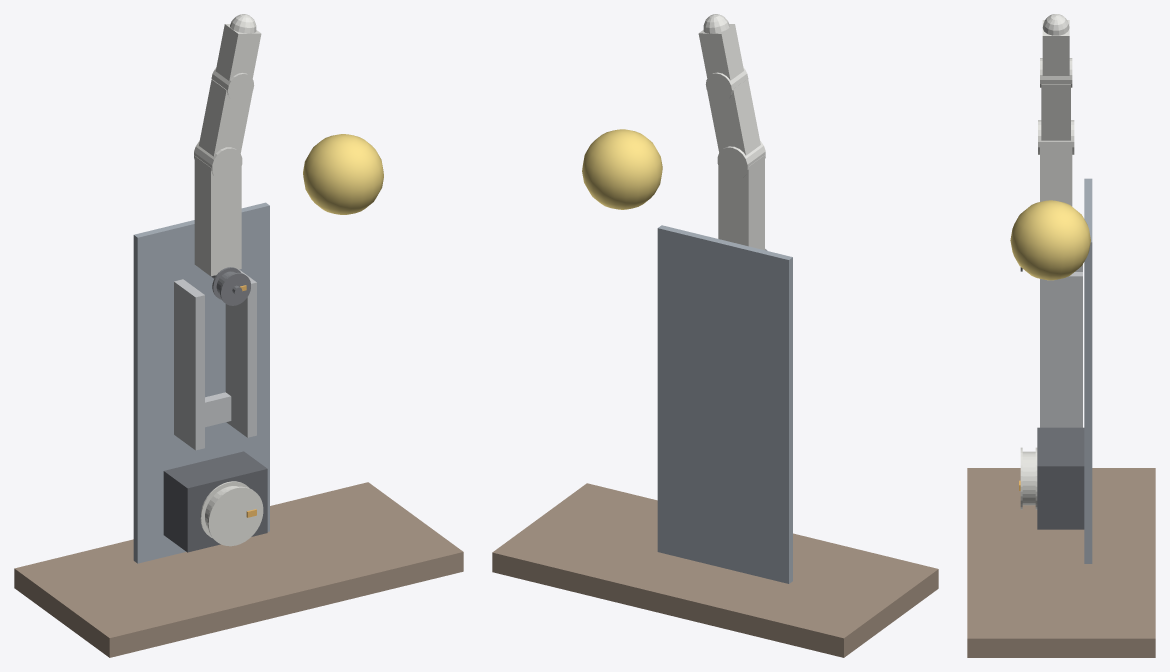
File: finger.glb
3 views of the same model, side by side, from view 1: azimuth 30°, elevation 25°; view 2: azimuth 150°, elevation 25°; view 3: azimuth 270°, elevation 25° (orthographic).
Parts seen in each view (by area): view 1: FG_desk, FG_plate, FG_frame, FG_p1, FG_servo, FG_p2, FG_ball, FG_spool, FG_pulley; view 2: FG_plate, FG_desk, FG_p2, FG_ball, FG_p1; view 3: FG_desk, FG_frame, FG_ball, FG_servo, FG_p2, FG_plate, FG_p1, FG_spool.
Boxes of the visible parts, <box> form: FG_desk: <box>14,482,463,657</box>; FG_plate: <box>133,202,269,563</box>; FG_frame: <box>174,269,256,450</box>; FG_p1: <box>194,141,242,276</box>; FG_servo: <box>163,451,267,552</box>; FG_p2: <box>199,14,261,156</box>; FG_ball: <box>303,134,383,214</box>; FG_spool: <box>200,481,263,546</box>; FG_pulley: <box>212,267,250,305</box>; FG_plate: <box>657,225,792,583</box>; FG_desk: <box>492,483,938,657</box>; FG_p2: <box>698,14,760,155</box>; FG_ball: <box>582,129,662,209</box>; FG_p1: <box>717,140,765,250</box>; FG_desk: <box>967,468,1155,657</box>; FG_frame: <box>1040,264,1082,427</box>; FG_ball: <box>1010,200,1090,280</box>; FG_servo: <box>1037,427,1084,529</box>; FG_p2: <box>1040,14,1072,140</box>; FG_plate: <box>1084,178,1092,563</box>; FG_p1: <box>1038,120,1074,206</box>; FG_spool: <box>1020,447,1037,509</box>.
Bounding box in the file's own units: 4.5 × 6.88 × 2.1.
